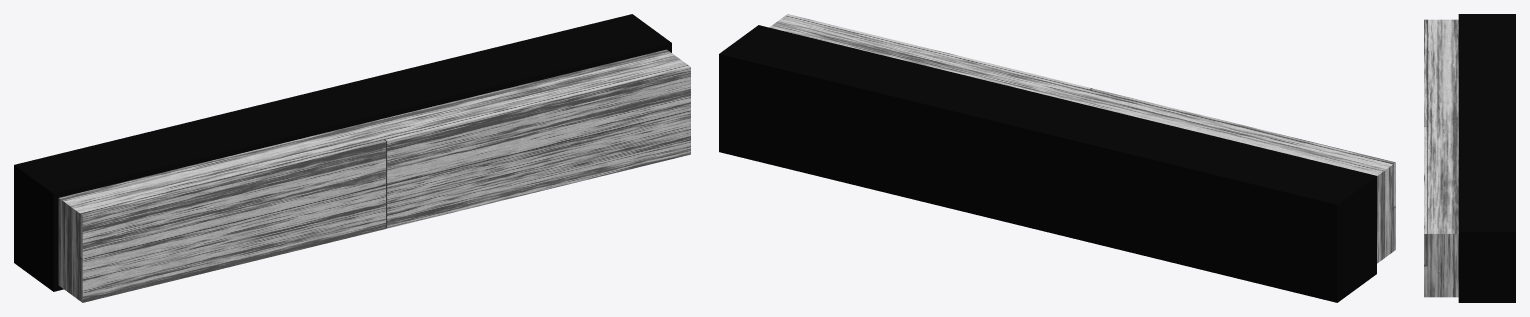
The model's file is DecorativeTop.FBX.
3 views of the same model, side by side, from view 1: azimuth 30°, elevation 25°; view 2: azimuth 150°, elevation 25°; view 3: azimuth 270°, elevation 25° (orthographic). The views are drawn at different scales.
Parts seen in each view (by area): view 1: DecorativeTop; view 2: DecorativeTop; view 3: DecorativeTop.
Boxes of the visible parts, box(x1,y1,x2,y2) form: DecorativeTop: box(14, 14, 690, 302); DecorativeTop: box(719, 14, 1395, 302); DecorativeTop: box(1424, 14, 1515, 302).
Bounding box in the file's own units: 96.06 × 14.57 × 17.1.
